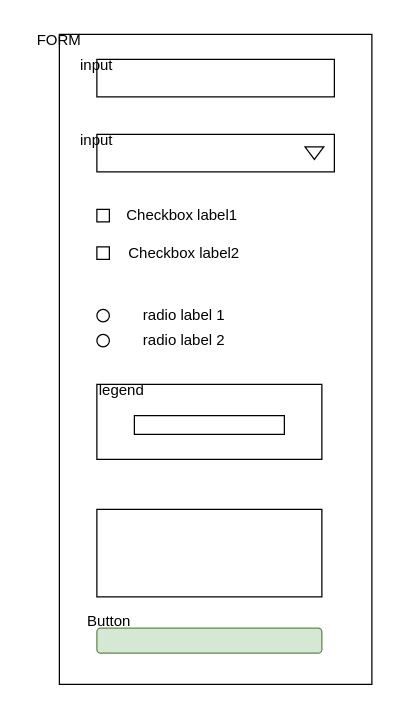
Image size: 394x706. Some labels were removed from this diagram. Here are the shapes that lost their labels. From the top down, the centre of each, then its label:
the point at 209,552: textarea
the point at 209,640: Envoyer
